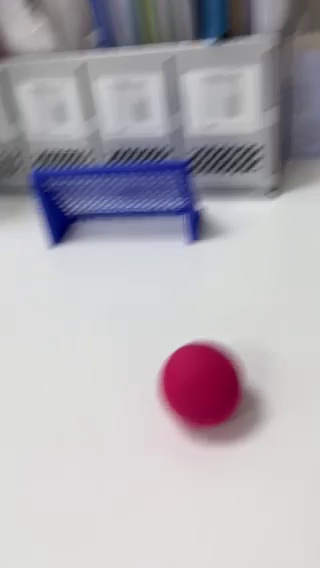goal: (25, 144, 204, 249)
redball: (161, 343, 239, 427)
